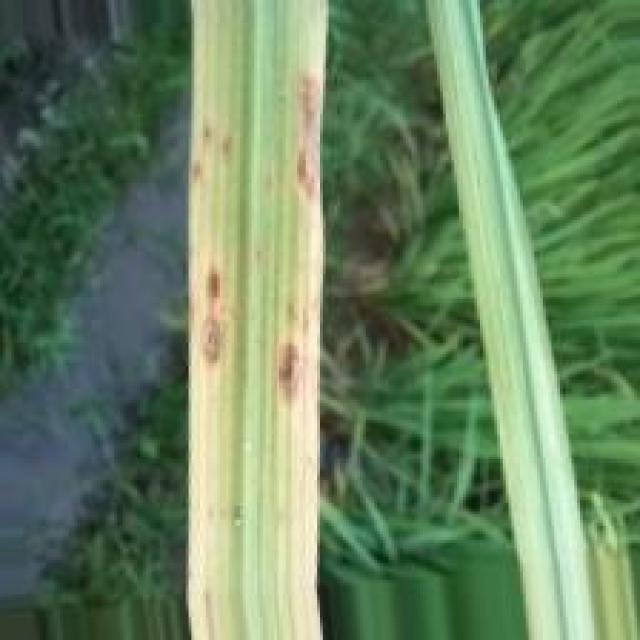Brown_Spot: (294, 75, 319, 216), (198, 262, 227, 376), (273, 334, 305, 416)
